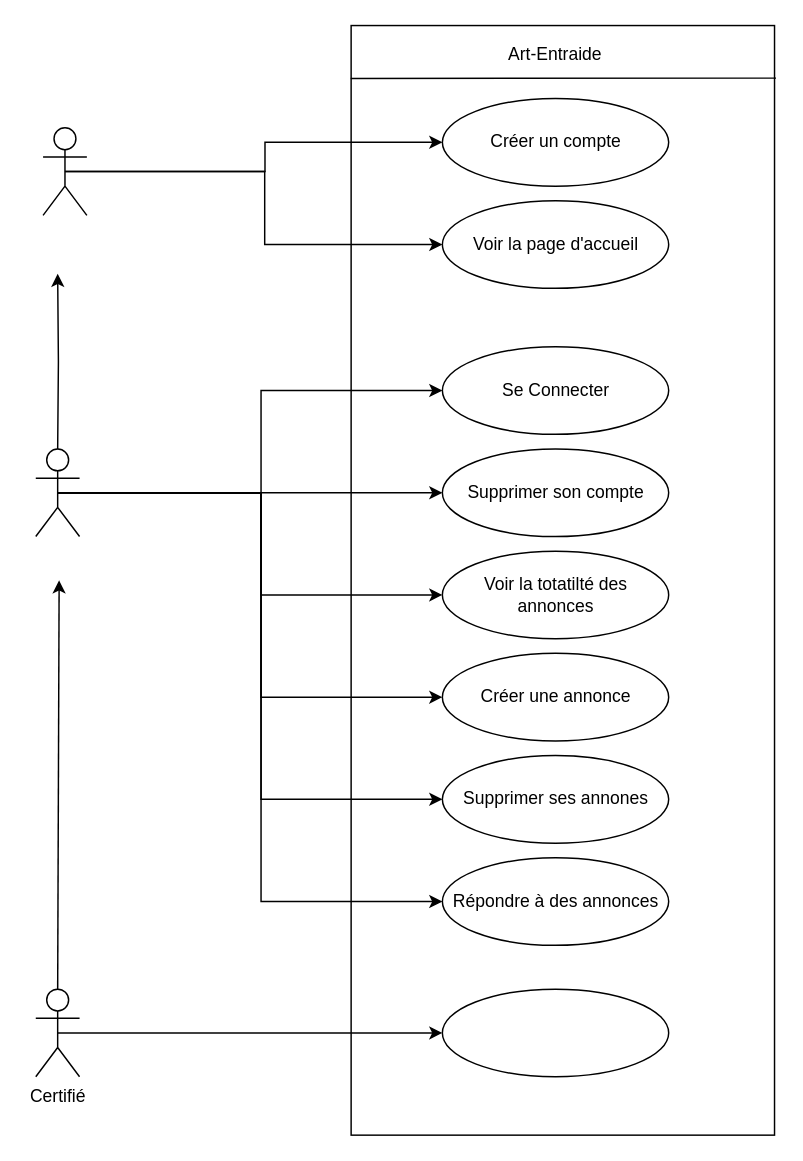
This 803x1161 diagram has some shape labels left out. Here are the shapes that lost their labels. From the top down, the centre of each, then its label:
(x=64, y=170): Pas inscrit
(x=57, y=492): Inscrit
(x=555, y=1032): Certifier des personnes
